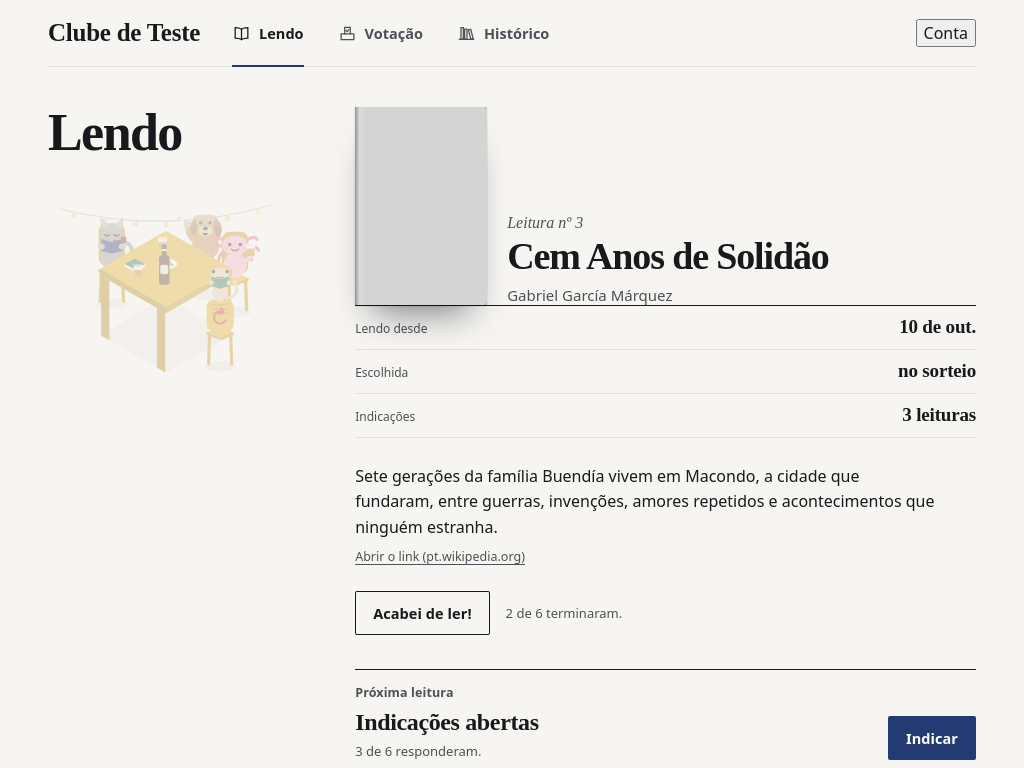
AppShell › marks the current section and moves between sections
Click the link "Votação".
click(380, 33)  # box [338, 23, 423, 43]
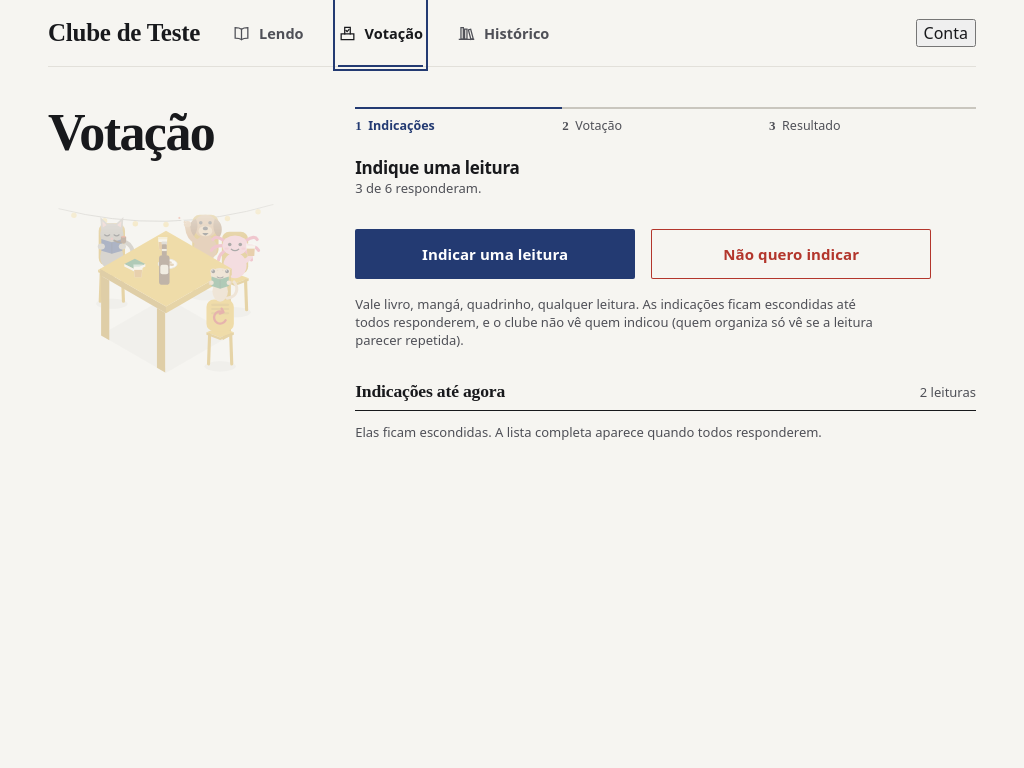
Expected: the heading "Votação" is shown, [48, 104, 214, 161]
